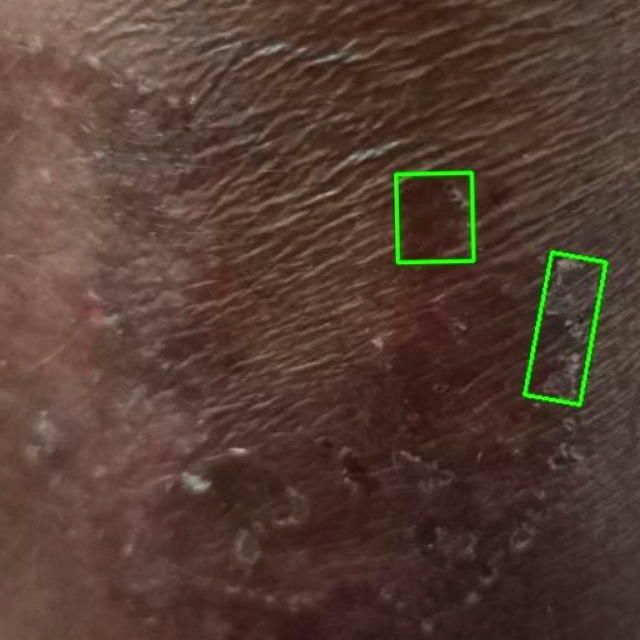Tinea Corporis: (525, 253, 606, 405), (395, 172, 473, 262)
